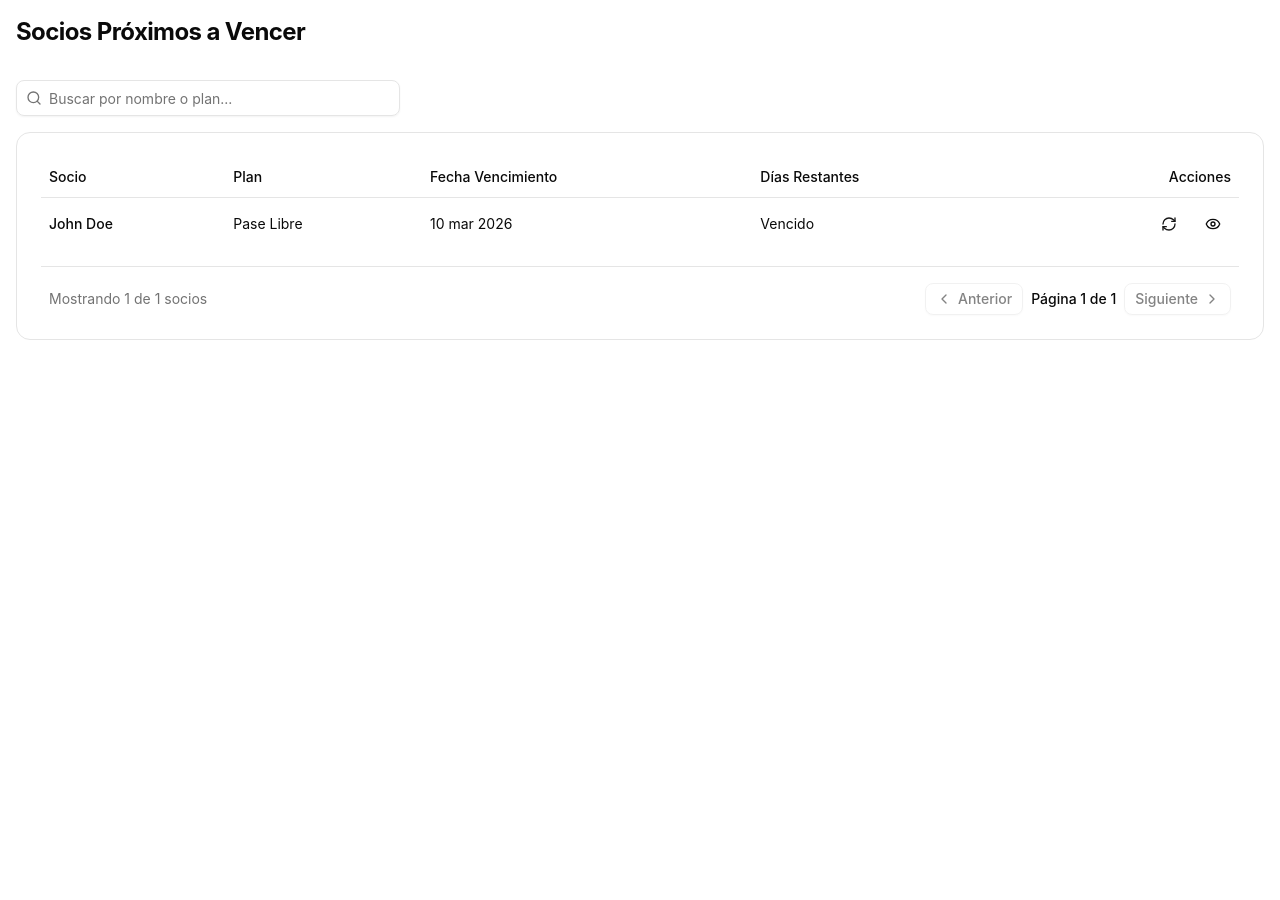
Test: ExpiringMembersPage › should open the view modal when clicking the view button
expect the text "John Doe" is shown: met, box [41,197,225,250]
Click the button titled "ver detalle". click: [1213, 224]
box: [1195,206,1231,242]
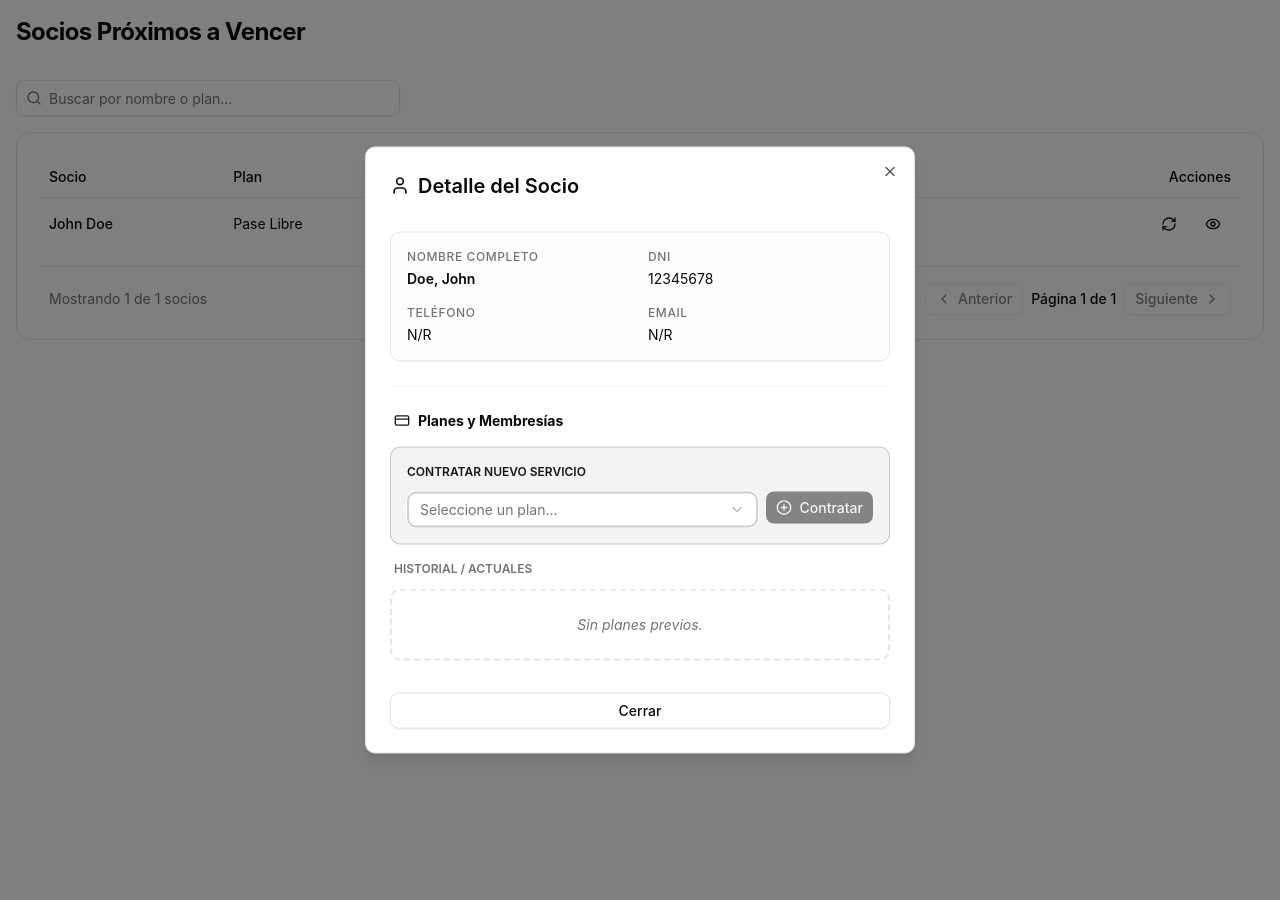
expect the heading "Detalle del Socio" is shown: met, box [390,174,579,198]
